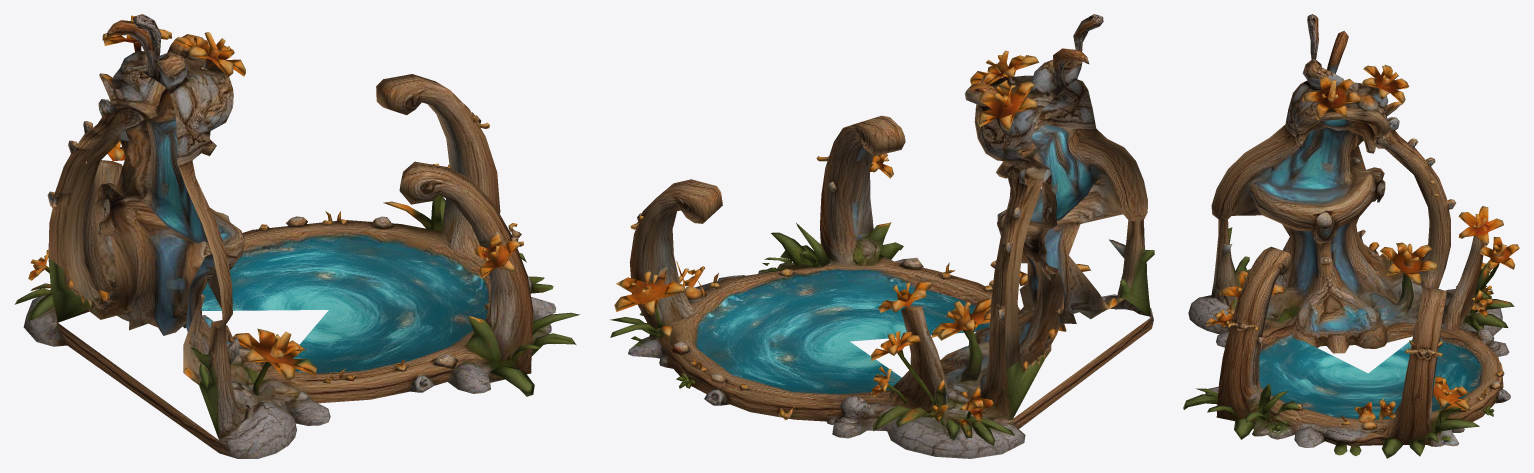
File: lioraen_lifewell.glb
3 renders of one model, left to right at view 1: azimuth 30°, elevation 25°; view 2: azimuth 150°, elevation 25°; view 3: azimuth 270°, elevation 25°, orthographic. The views are drawn at different scales.
Size of the model in its own units: 0.5411 by 0.45 by 0.4775.
Materials: 1 (1 with a texture image).
